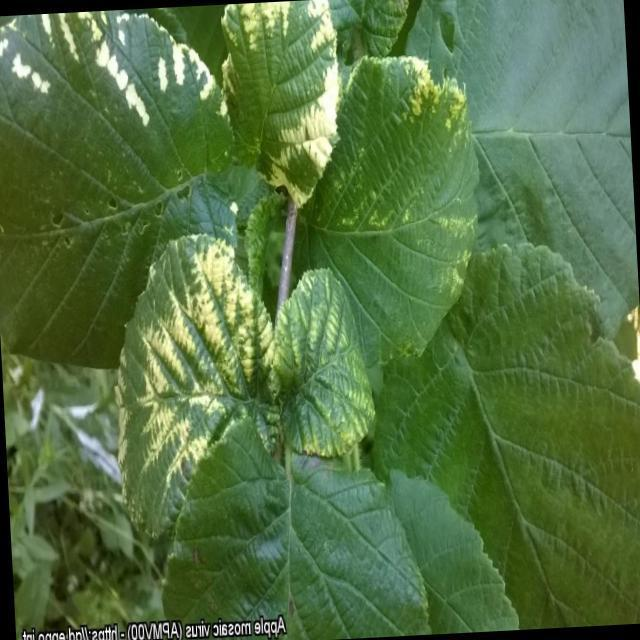Mosaic Virus: (136, 250, 278, 472), (0, 5, 222, 133), (375, 44, 478, 260), (228, 0, 343, 193), (269, 270, 378, 452)
